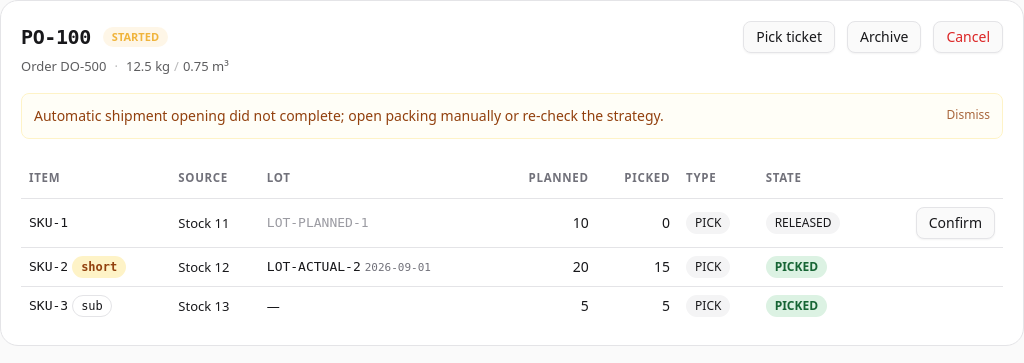
PickPane -- auto-open pending notice (row :1470, A8) › dismisses the notice locally when Dismiss is clicked
Check: the element with test id "pick-pane-auto-open-pending" is shown, box [21, 92, 1003, 138]
Click the button with test id "pick-pane-auto-open-pending-dismiss". click: [968, 114]
box: [947, 106, 990, 123]
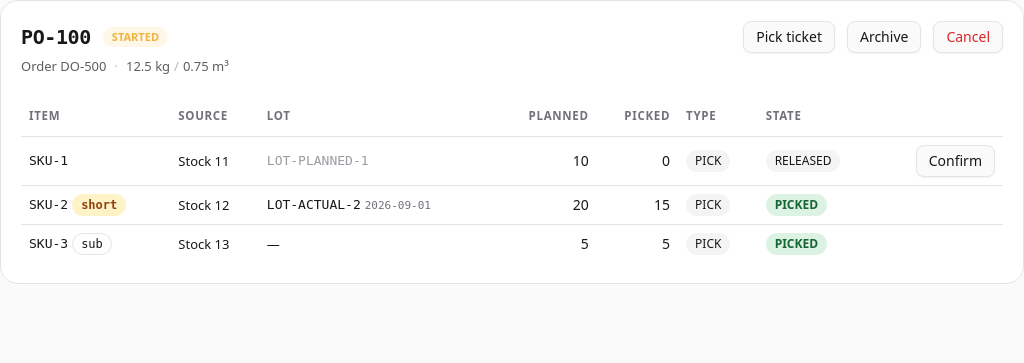
Check: the element with test id "pick-pane-auto-open-pending" is gone
